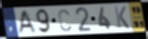2: (74, 6, 93, 33)
4: (98, 6, 113, 32)
9: (34, 8, 52, 35)
A: (17, 10, 38, 35)
C: (57, 8, 73, 32)
K: (113, 6, 131, 30)
